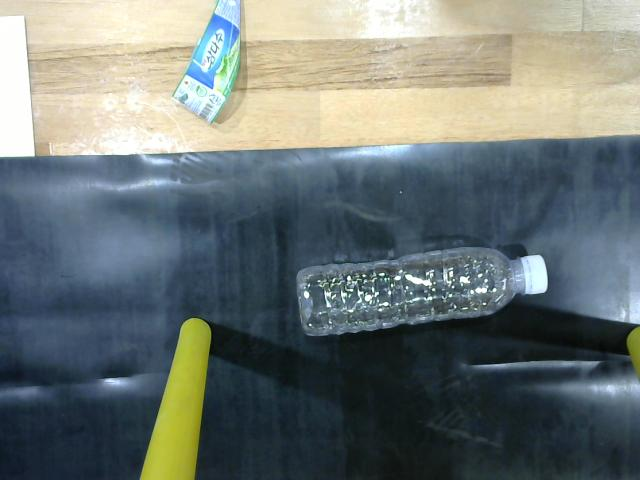bottle: (286, 238, 555, 345)
